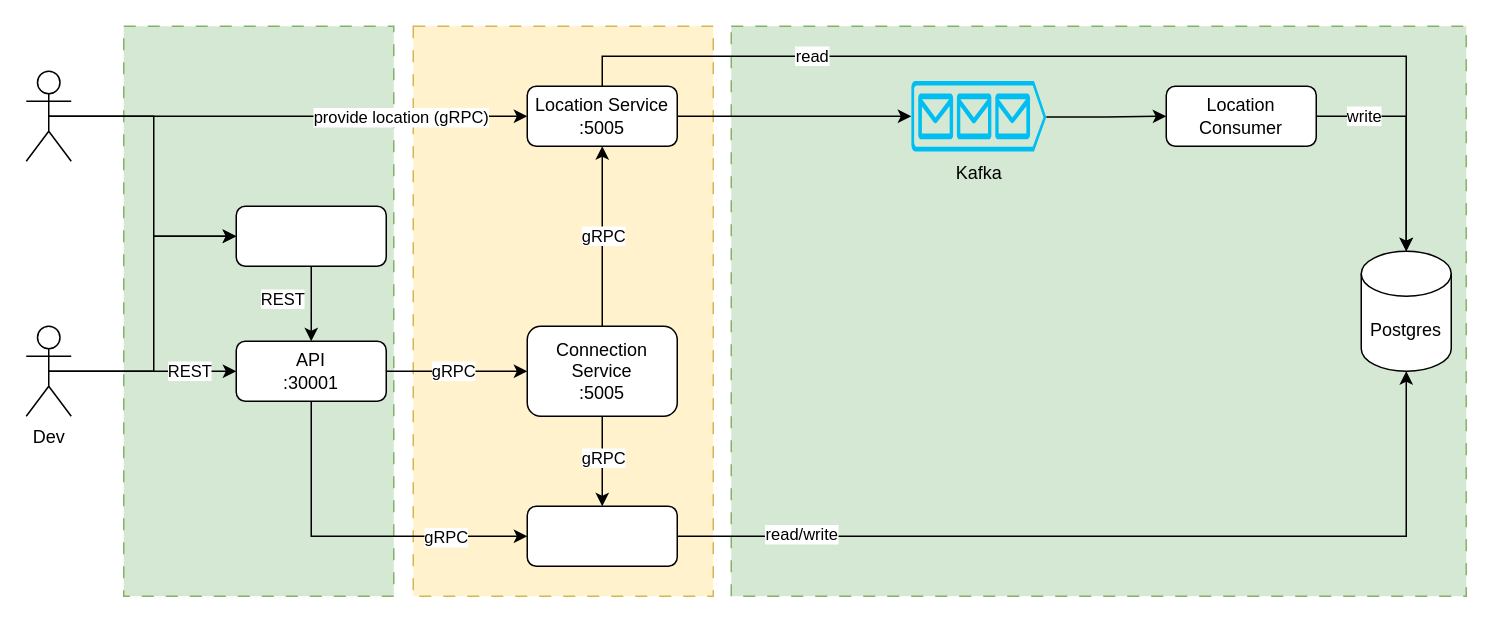
Image size: 1493x623. Some labels were removed from this diagram. The shapes that lost their labels are listed below. From the top down, each one's centre as x and y in pixels, then its label:
At pixel 48 115: "User".
At pixel 310 235: "frontend :30000".
At pixel 601 535: "Persons Service :5005".
